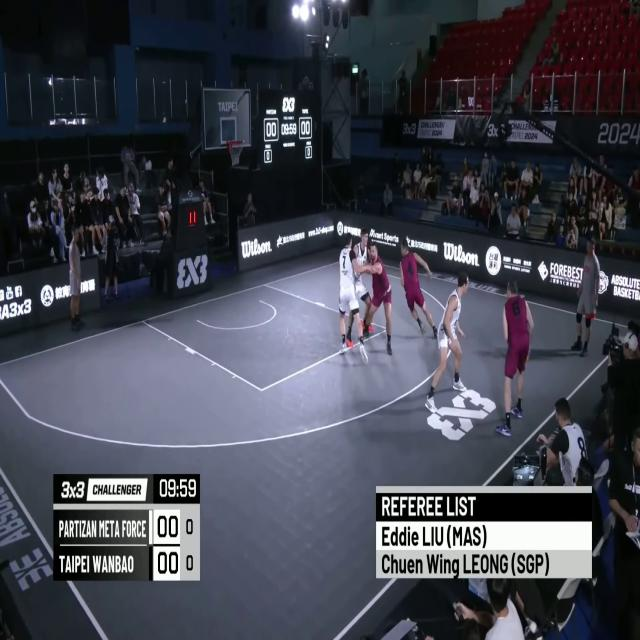ball: (522, 342, 532, 363)
hoop: (227, 138, 243, 167)
player: (495, 279, 533, 439), (427, 272, 467, 414), (338, 236, 370, 360), (344, 226, 374, 354), (359, 244, 392, 354), (401, 241, 435, 345)
